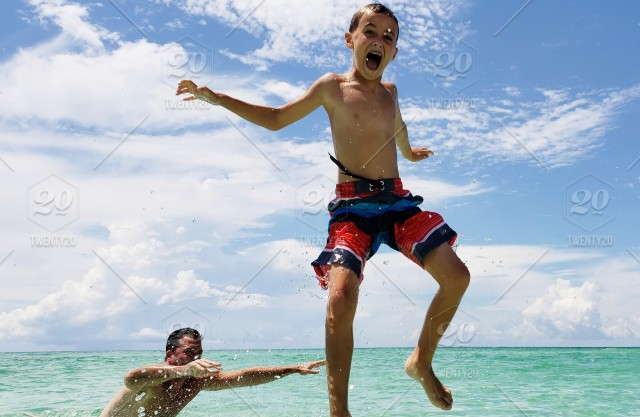Person: (173, 1, 479, 414), (68, 322, 330, 416)
